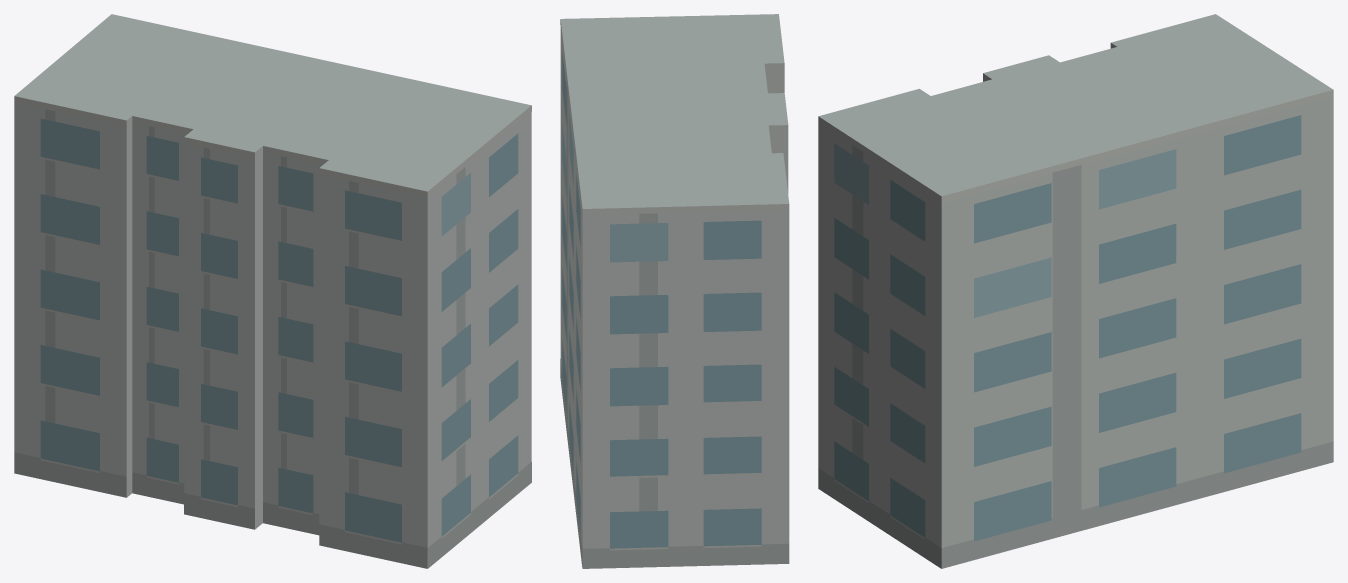
File: survey-upis-32868688.glb
3 renders of one model, left to right at view 1: azimuth 30°, elevation 25°; view 2: azimuth 150°, elevation 25°; view 3: azimuth 270°, elevation 25°, orthographic. The views are drawn at different scales.
Parts seen in each view (by area): view 1: survey-upis-32868688.tmp; view 2: survey-upis-32868688.tmp; view 3: survey-upis-32868688.tmp.
Boxes of the visible parts, <box> form: survey-upis-32868688.tmp: <box>14,14,531,568</box>; survey-upis-32868688.tmp: <box>560,14,789,568</box>; survey-upis-32868688.tmp: <box>818,14,1333,568</box>.
Bounding box in the file's own units: 14.92 × 14.2 × 17.81.
